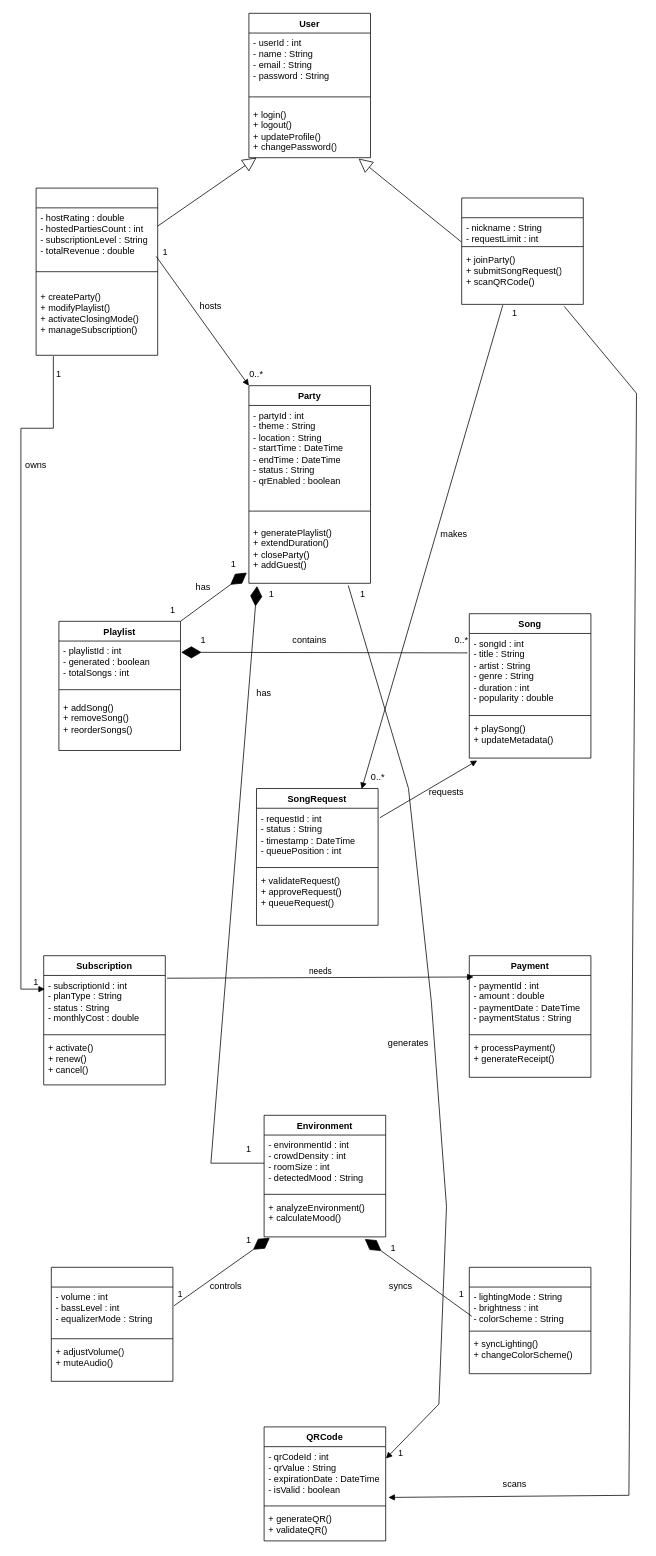
Image size: 656x1556. Some labels were removed from this diagram. The shapes that lost their labels are listed below. From the top down, each one's box as (x1, y1, x2, y2) in pixels, then its label:
(461, 197, 583, 304): PartyGuest
(35, 187, 158, 355): PartyHost
(51, 1267, 173, 1381): AudioSettings
(469, 1267, 591, 1374): LightingSystem
